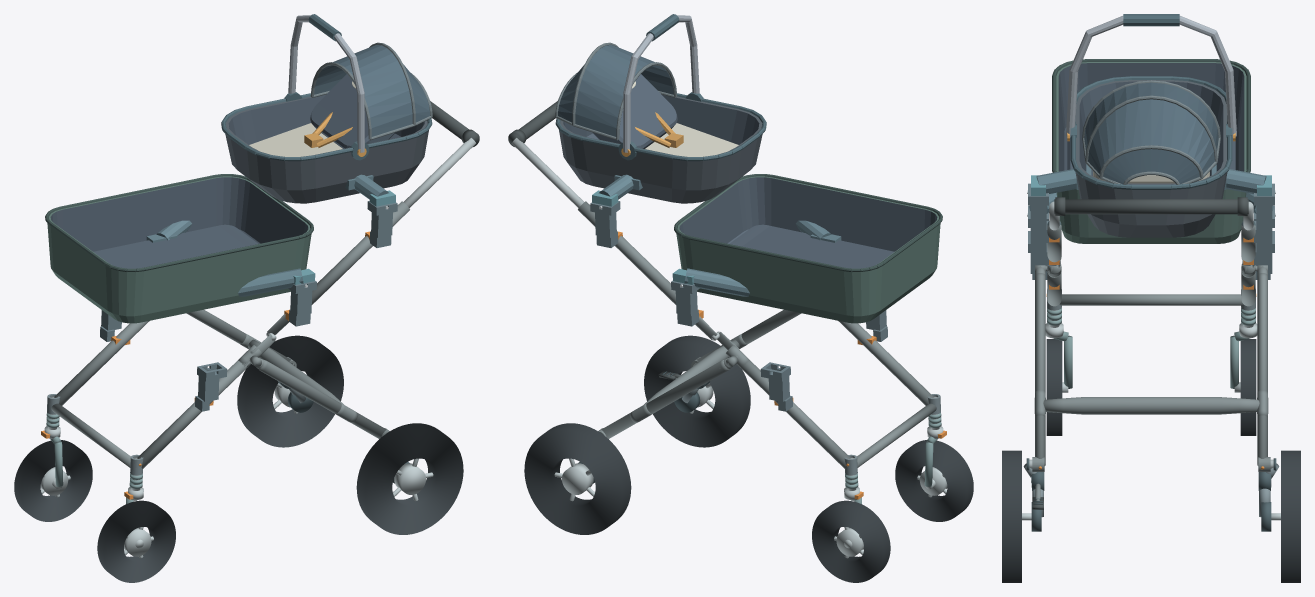
File: D10_w550_state1_wheel_M.glb
3 views of the same model, side by side, from view 1: azimuth 30°, elevation 25°; view 2: azimuth 150°, elevation 25°; view 3: azimuth 270°, elevation 25° (orthographic). The views are drawn at different scales.
Parts seen in each view (by area): view 1: D10_Lower, D10_Upper, RL_tire.002, RR_tire.002, FL_tire.002, FR_tire.002, D10_Lower_Mount_M, V46_rear_leg_-1.003, main_lower_-1.003, main_lower_1.003, main_upper_-1.003, Universal_Cabin_Receiver_L_-1 (+9 smaller); view 2: D10_Lower, D10_Upper, RR_tire.002, RL_tire.002, FR_tire.002, FL_tire.002, D10_Lower_Mount_M, V46_rear_leg_1.003, main_lower_1.003, main_lower_-1.003, main_upper_1.003, Universal_Cabin_Receiver_L_1 (+9 smaller); view 3: D10_Upper, D10_Lower, V46_rearbar.003, round_handle.002, RL_tire.002, RR_tire.002, front_fixed_round_tube.002, D10_Upper_Mount_H, V46_rear_leg_1.003, V46_rear_leg_-1.003, FL_tire.002, FR_tire.002 (+10 smaller).
Part boxes in pixels (bbox=[...]): D10_Lower: bbox=[45, 174, 313, 323]; D10_Upper: bbox=[221, 14, 432, 203]; RL_tire.002: bbox=[356, 423, 463, 534]; RR_tire.002: bbox=[237, 335, 343, 447]; FL_tire.002: bbox=[97, 500, 175, 582]; FR_tire.002: bbox=[14, 440, 92, 521]; D10_Lower_Mount_M: bbox=[146, 220, 315, 296]; V46_rear_leg_-1.003: bbox=[258, 360, 386, 438]; main_lower_-1.003: bbox=[137, 360, 249, 468]; main_lower_1.003: bbox=[54, 321, 149, 405]; main_upper_-1.003: bbox=[311, 201, 409, 304]; Universal_Cabin_Receiver_L_-1: bbox=[195, 362, 227, 411]; D10_Lower: bbox=[674, 174, 942, 323]; D10_Upper: bbox=[555, 14, 766, 203]; RR_tire.002: bbox=[524, 423, 631, 534]; RL_tire.002: bbox=[644, 335, 750, 447]; FR_tire.002: bbox=[812, 500, 890, 582]; FL_tire.002: bbox=[895, 440, 973, 521]; D10_Lower_Mount_M: bbox=[672, 220, 841, 296]; V46_rear_leg_1.003: bbox=[601, 360, 729, 438]; main_lower_1.003: bbox=[738, 360, 850, 468]; main_lower_-1.003: bbox=[838, 321, 933, 405]; main_upper_1.003: bbox=[578, 201, 676, 304]; Universal_Cabin_Receiver_L_1: bbox=[760, 362, 792, 411]; D10_Upper: bbox=[1066, 14, 1236, 237]; D10_Lower: bbox=[1052, 59, 1250, 243]; V46_rearbar.003: bbox=[1043, 397, 1259, 414]; round_handle.002: bbox=[1054, 199, 1248, 214]; RL_tire.002: bbox=[1002, 450, 1021, 582]; RR_tire.002: bbox=[1281, 450, 1300, 582]; front_fixed_round_tube.002: bbox=[1059, 294, 1243, 305]; D10_Upper_Mount_H: bbox=[1027, 164, 1275, 195]; V46_rear_leg_1.003: bbox=[1257, 273, 1267, 465]; V46_rear_leg_-1.003: bbox=[1035, 273, 1045, 465]; FL_tire.002: bbox=[1046, 339, 1062, 435]; FR_tire.002: bbox=[1240, 339, 1256, 435].
Size of the model in its own units: 1.16 by 1.37 by 0.6771.
